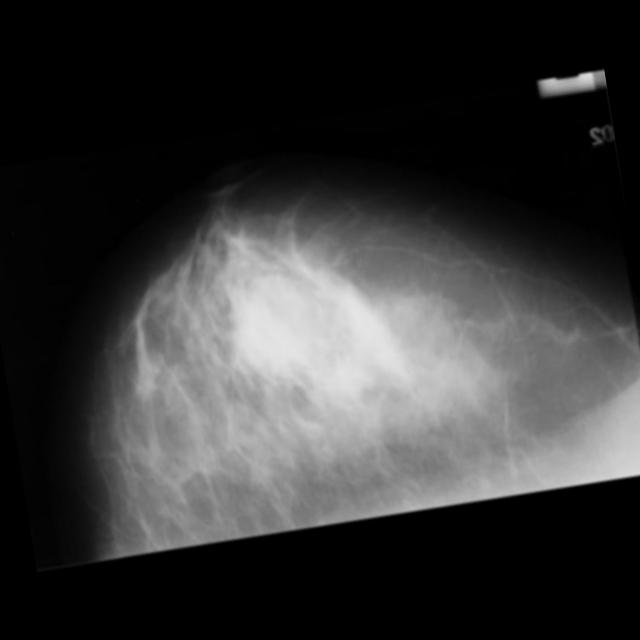CIRC: (214, 262, 346, 396)
